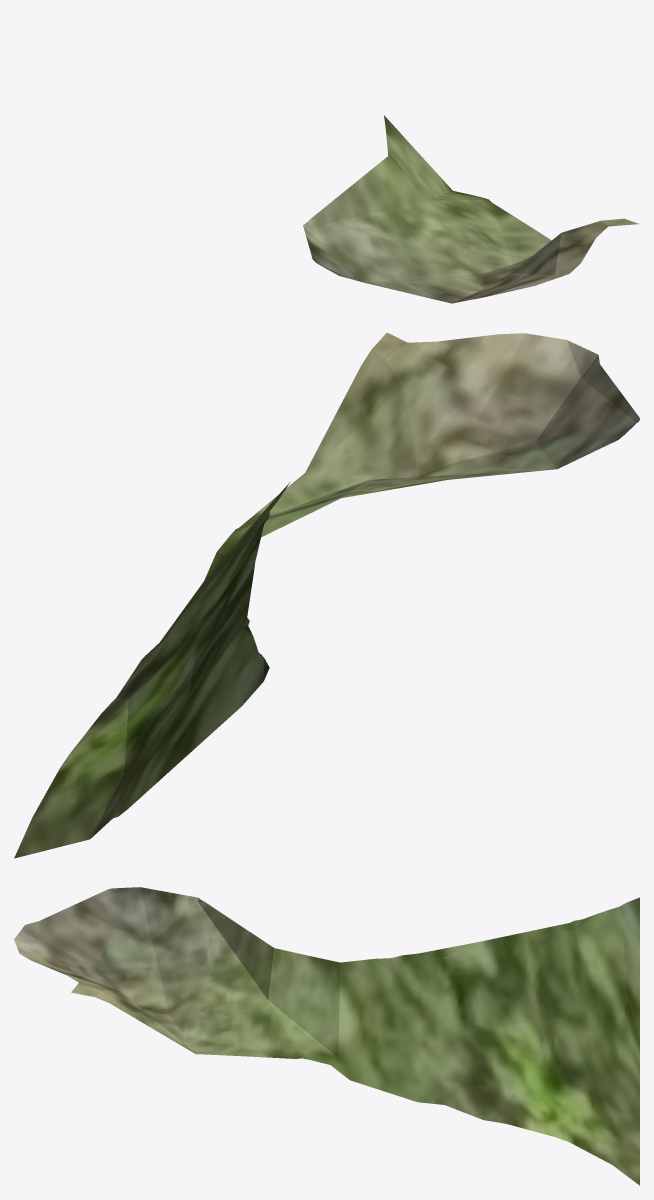
3 renders of one model, top to bottom at view 1: azimuth 30°, elevation 25°; view 2: azimuth 150°, elevation 25°; view 3: azimuth 270°, elevation 25°, orthographic. The views are drawn at different scales.
Size of the model in its own units: 0.6823 by 0.5832 by 1.71.
1 material, 1 textured.
